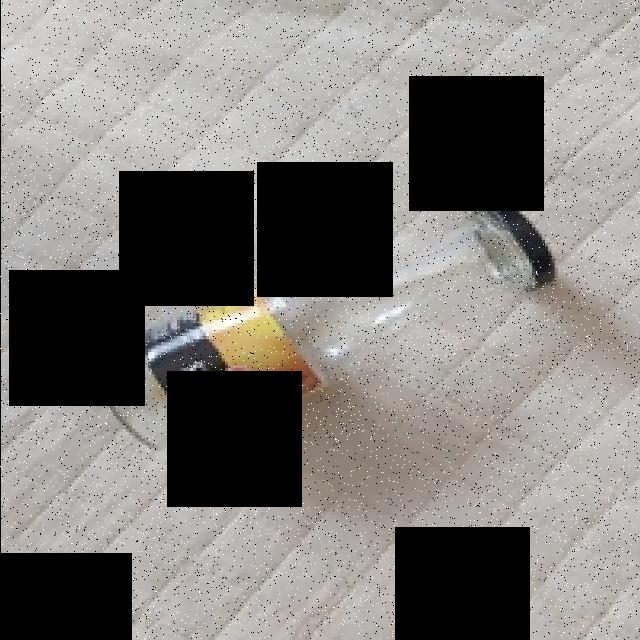glass-bottle: (64, 164, 594, 508)
